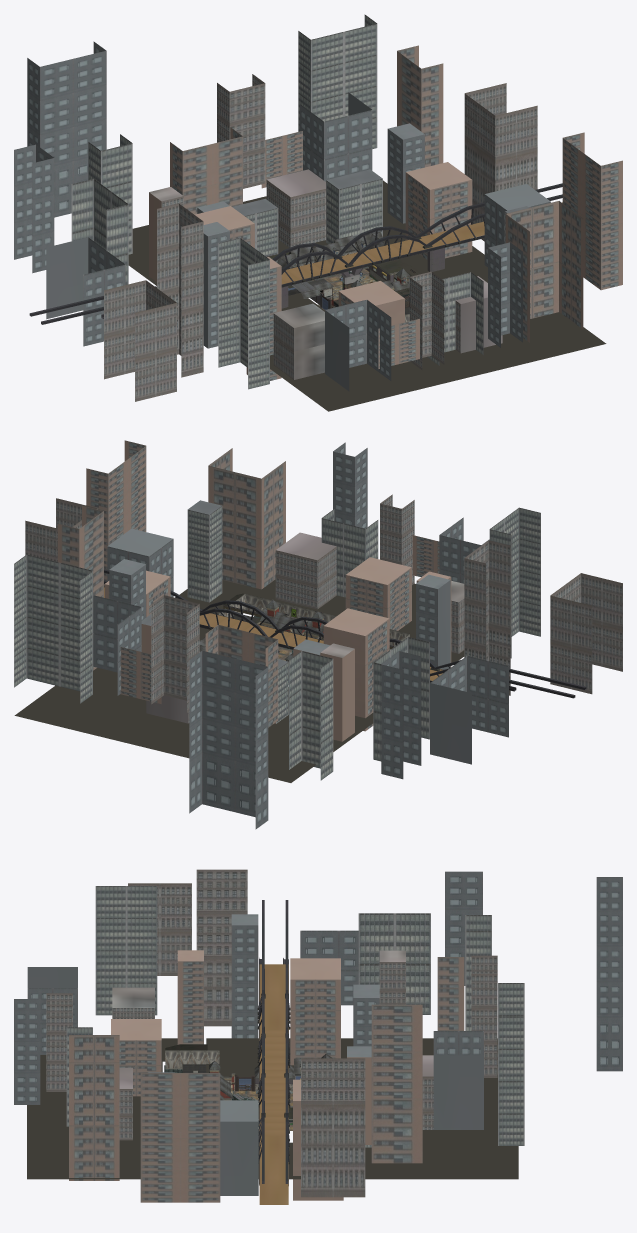
The model's file is station__arena.glb.
3 renders of one model, top to bottom at view 1: azimuth 30°, elevation 25°; view 2: azimuth 150°, elevation 25°; view 3: azimuth 270°, elevation 25°, orthographic. The views are drawn at different scales.
Visible parts, largest first — view 1: Background Buildings_ENV_DWT_MAT_Atlas_Aa_Aa_0, Main_Arena_ENV_DWT_MAT_Atlas_Aa_Aa_0, Bridge_ENV_DWT_MAT_Atlas_Aa_Aa_0; view 2: Background Buildings_ENV_DWT_MAT_Atlas_Aa_Aa_0, Main_Arena_ENV_DWT_MAT_Atlas_Aa_Aa_0, Bridge_ENV_DWT_MAT_Atlas_Aa_Aa_0; view 3: Background Buildings_ENV_DWT_MAT_Atlas_Aa_Aa_0, Main_Arena_ENV_DWT_MAT_Atlas_Aa_Aa_0, Bridge_ENV_DWT_MAT_Atlas_Aa_Aa_0.
Boxes of the visible parts, x1,y1,x2,y2 form: Background Buildings_ENV_DWT_MAT_Atlas_Aa_Aa_0: (14, 14, 622, 401); Main_Arena_ENV_DWT_MAT_Atlas_Aa_Aa_0: (128, 180, 606, 411); Bridge_ENV_DWT_MAT_Atlas_Aa_Aa_0: (29, 183, 562, 324); Background Buildings_ENV_DWT_MAT_Atlas_Aa_Aa_0: (14, 440, 622, 829); Main_Arena_ENV_DWT_MAT_Atlas_Aa_Aa_0: (14, 579, 464, 782); Bridge_ENV_DWT_MAT_Atlas_Aa_Aa_0: (104, 569, 586, 698); Background Buildings_ENV_DWT_MAT_Atlas_Aa_Aa_0: (14, 869, 622, 1202); Main_Arena_ENV_DWT_MAT_Atlas_Aa_Aa_0: (27, 1038, 518, 1179); Bridge_ENV_DWT_MAT_Atlas_Aa_Aa_0: (257, 900, 290, 1204).
Size of the model in its own units: 19.07 by 6.03 by 17.36.
1 material, 1 textured.
